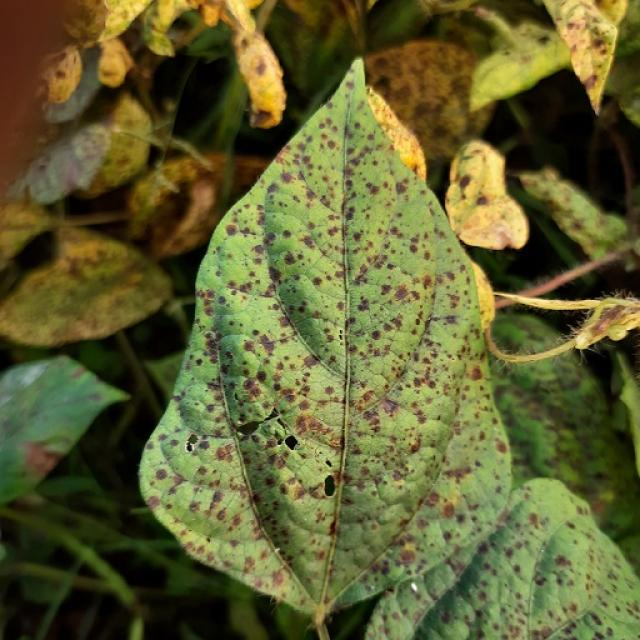Anthracnose: (152, 421, 267, 549), (231, 319, 345, 448), (342, 382, 447, 512), (281, 84, 352, 245), (340, 136, 412, 290), (338, 269, 427, 388), (252, 414, 341, 516), (278, 268, 350, 369), (436, 398, 500, 509), (215, 334, 276, 421), (281, 482, 345, 534), (177, 389, 230, 434), (294, 412, 337, 443), (254, 330, 282, 356), (236, 419, 262, 437), (258, 334, 277, 353), (584, 611, 604, 629), (398, 547, 416, 564), (380, 399, 397, 415), (323, 475, 335, 497), (283, 435, 299, 451), (264, 407, 281, 422), (394, 285, 410, 300), (554, 554, 571, 568), (468, 366, 483, 381), (185, 434, 198, 451), (146, 496, 161, 510), (442, 502, 455, 518), (352, 273, 368, 286), (327, 518, 338, 536), (495, 440, 508, 454), (339, 432, 346, 455), (154, 468, 167, 480), (534, 574, 546, 586), (343, 320, 349, 340), (371, 330, 381, 340), (338, 329, 344, 341), (325, 459, 333, 468), (205, 537, 211, 543)
Blackgram: (140, 60, 639, 639)
